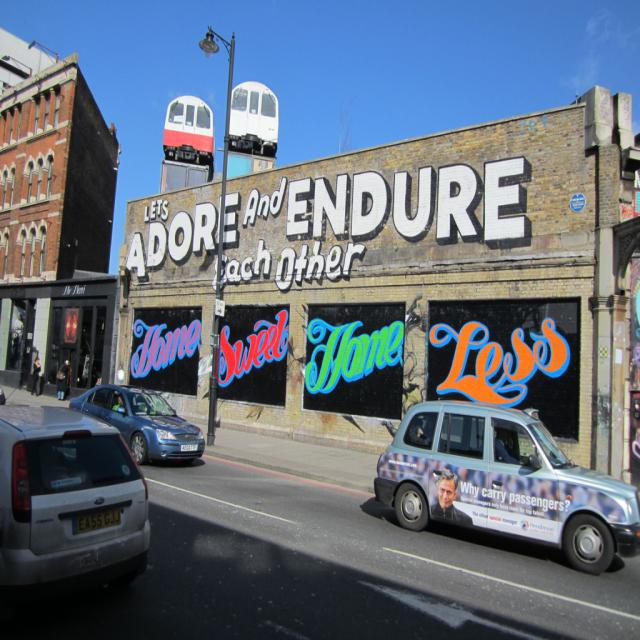car: (373, 400, 638, 575), (0, 397, 148, 616), (70, 379, 198, 464)
